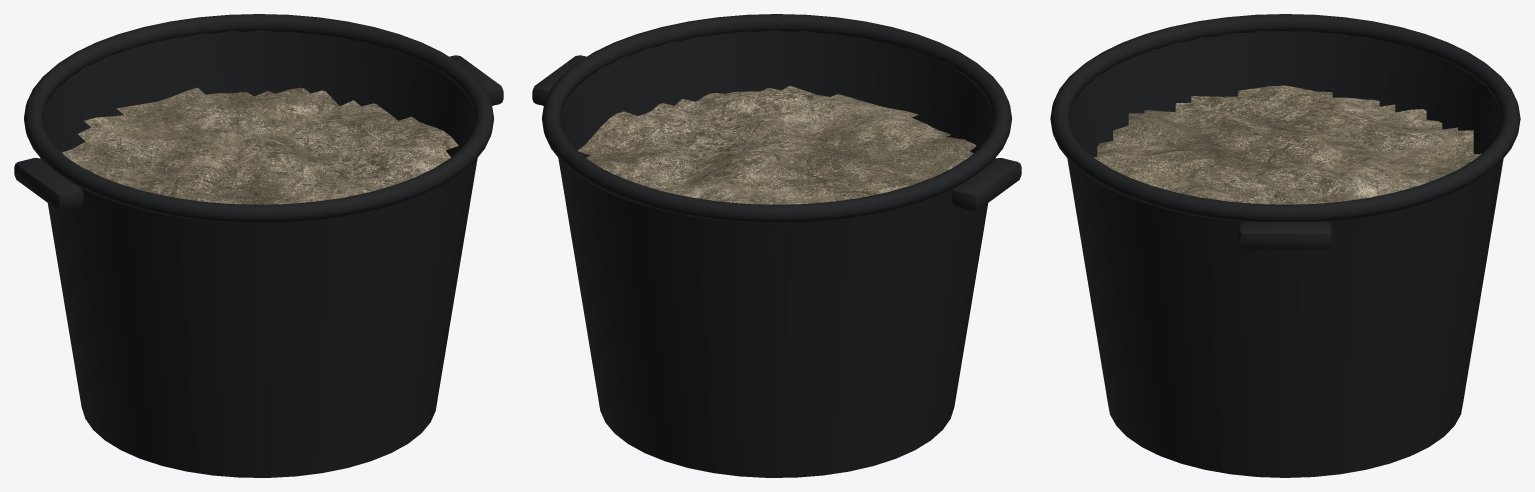
File: mortar_tub.gltf
The picture shows the model from 3 angles, left to right: view 1: azimuth 30°, elevation 25°; view 2: azimuth 150°, elevation 25°; view 3: azimuth 270°, elevation 25°; orthographic projection.
Parts seen in each view (by area): view 1: mortar_tub; view 2: mortar_tub; view 3: mortar_tub.
Part boxes in pixels (<box>): mortar_tub: <box>14,14,503,477</box>; mortar_tub: <box>532,14,1021,477</box>; mortar_tub: <box>1050,14,1520,477</box>.
Bounding box in the file's own units: 0.494 × 0.309 × 0.45.
2 materials, 1 textured.
